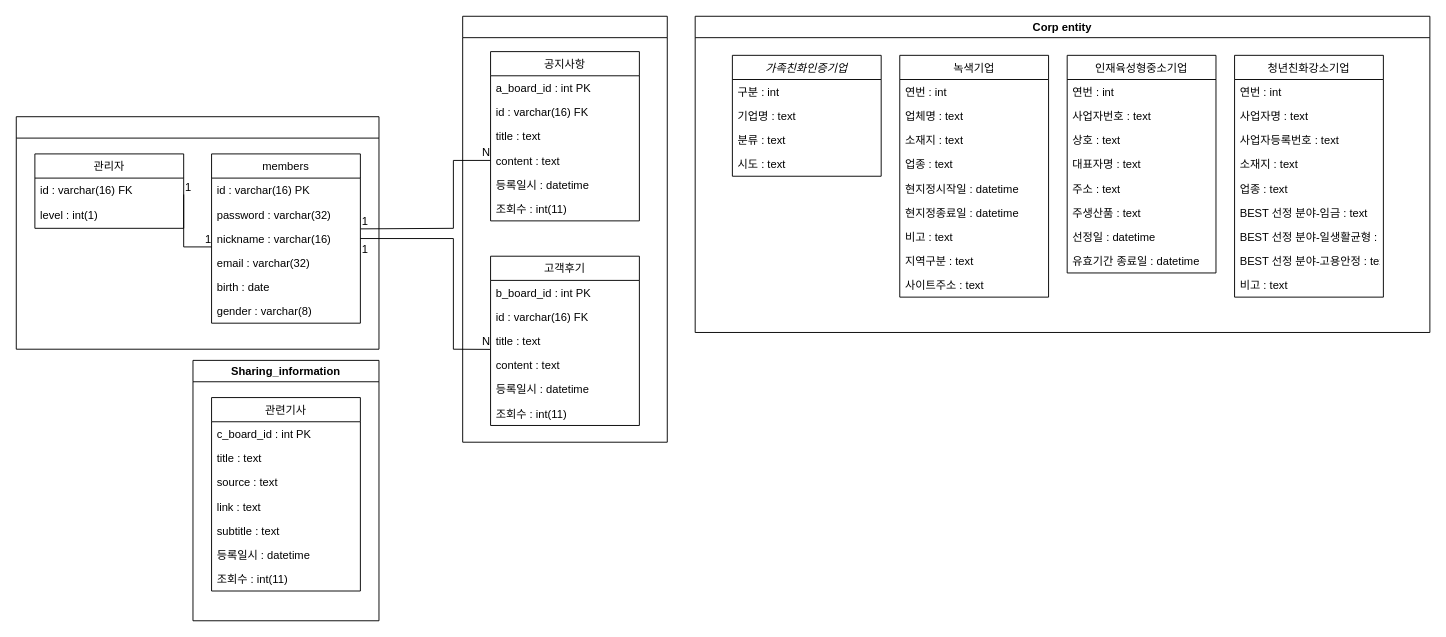
Image size: 1446x637. Some labels were removed from this diagram. The centre of each missing label's shape, as x and y in pixels:
"Comunity" belongs at (x=564, y=228).
"Member" belongs at (x=197, y=232).
